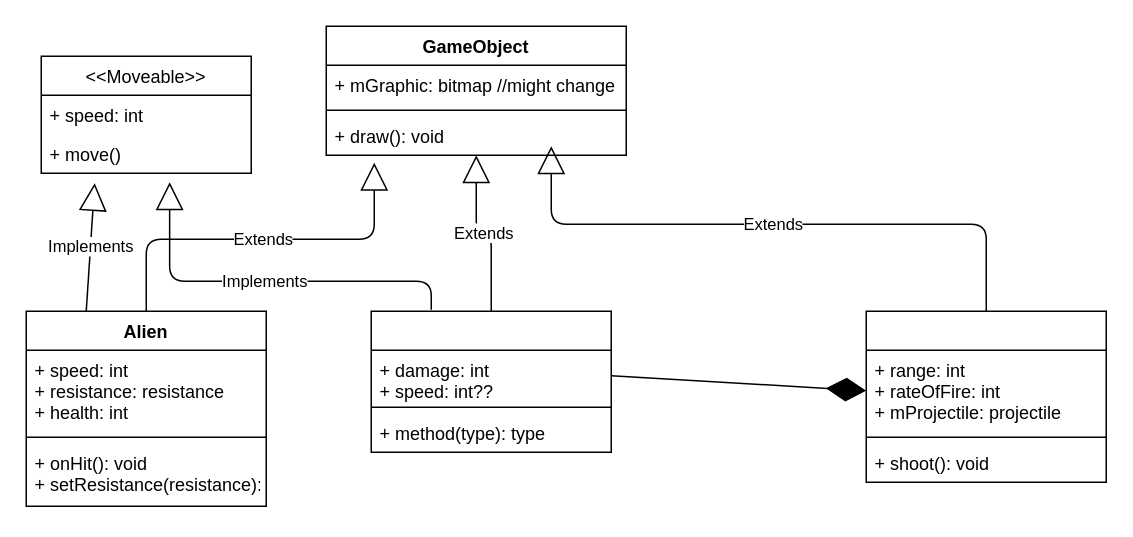
Some shapes in this 1133 by 537 pixel diagram are drawn without their labels. Here are the shapes that lost their labels. From the top down, the box of each, then its label:
(370, 310, 611, 452): Projectile
(865, 310, 1106, 482): Turret
